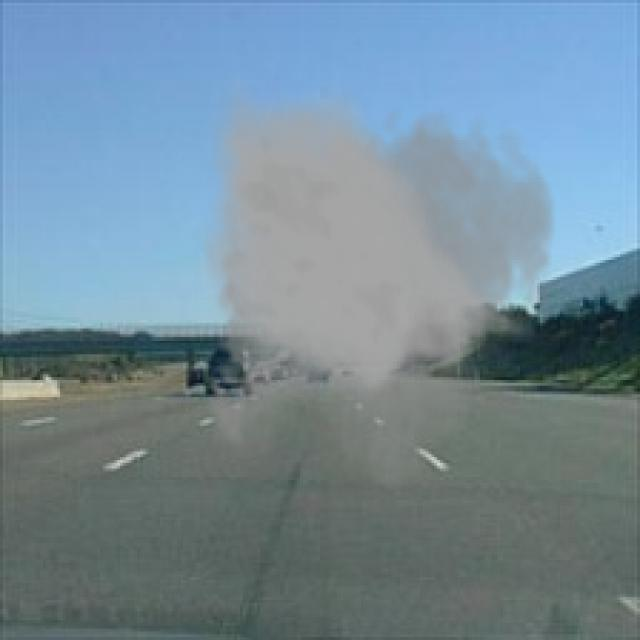smoke: (194, 77, 560, 492)
